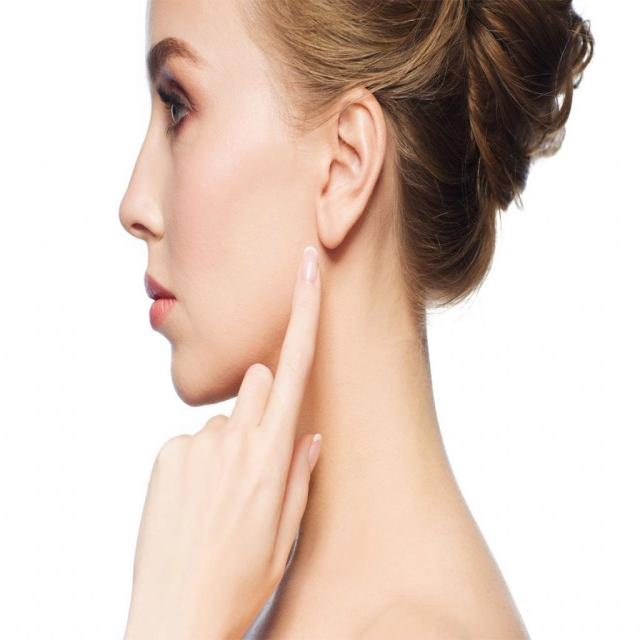earlobe: (317, 84, 386, 251)
